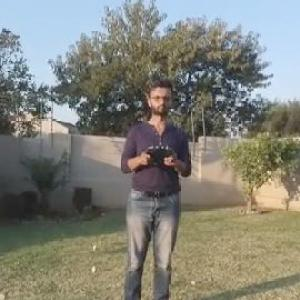follow: (114, 72, 199, 299)
